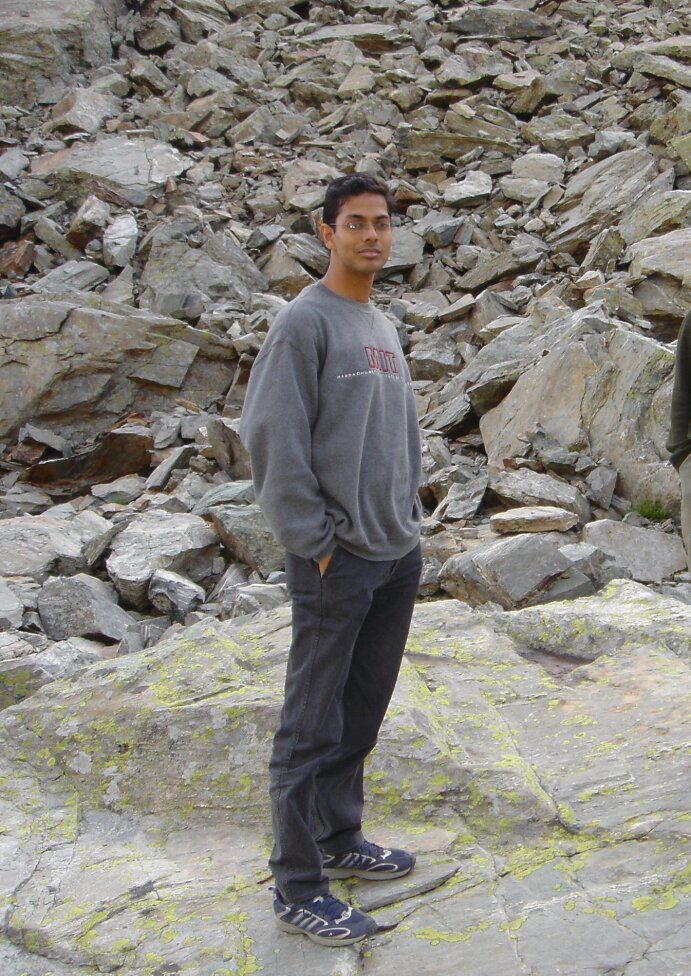person: (221, 169, 478, 944)
